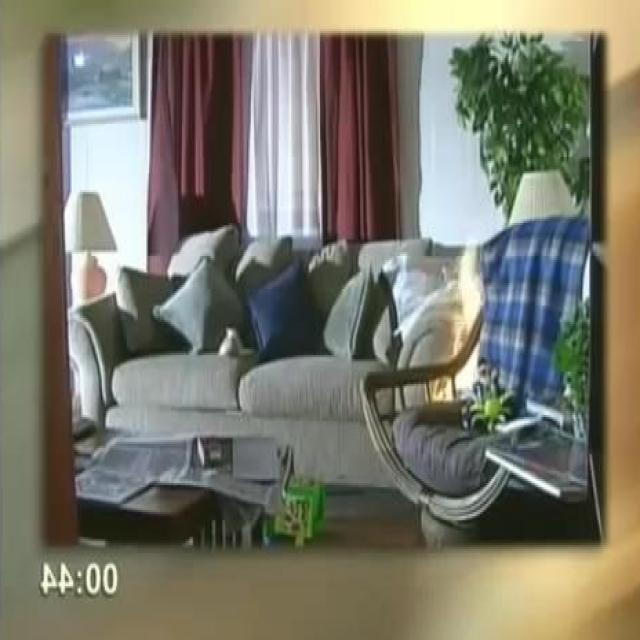smoke: (431, 235, 488, 402)
